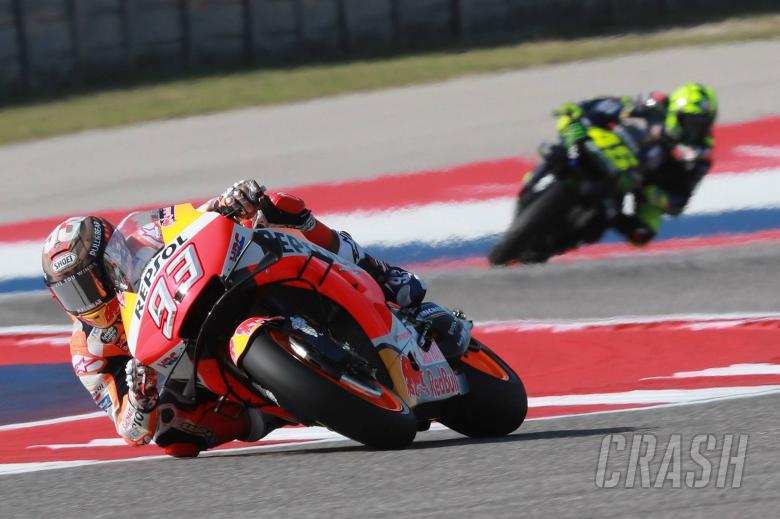helmet: (34, 215, 114, 326), (671, 78, 721, 141)
